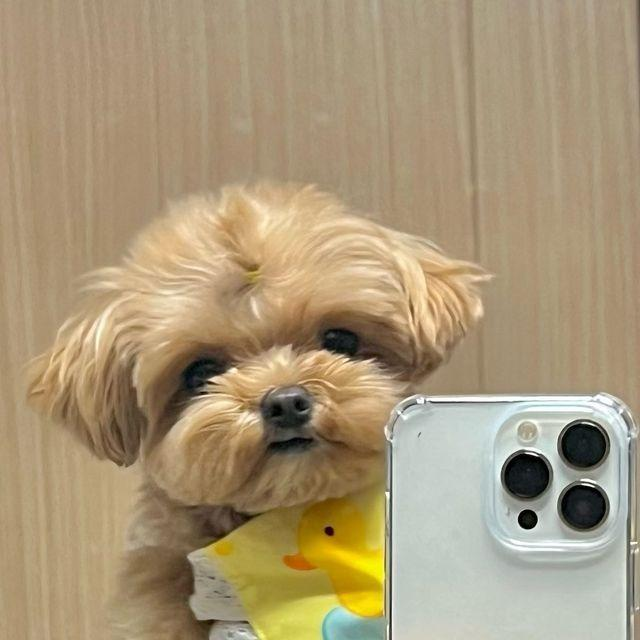adult_dog: (20, 183, 506, 640)
